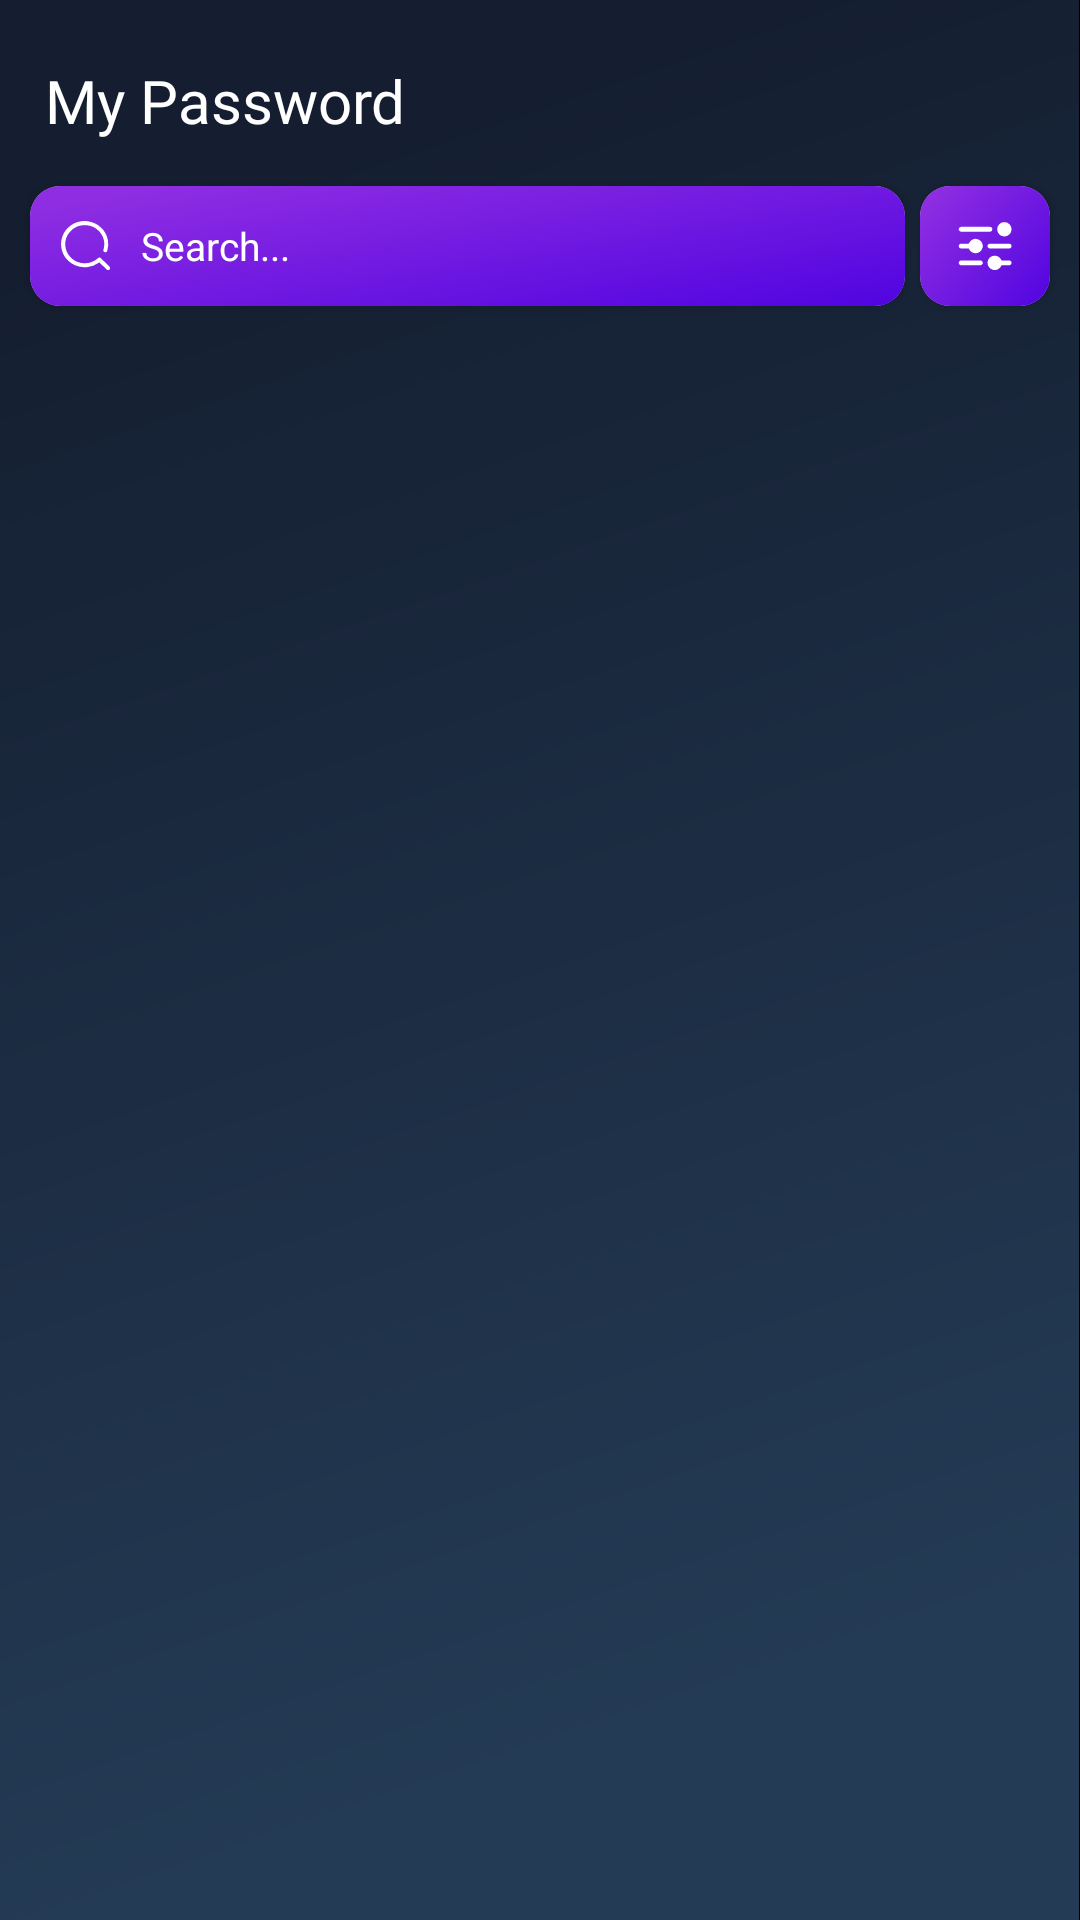

Icons on this 1080×1920 Android screen, each with the point to tap as point (x, y):
filter: point (985, 246)
